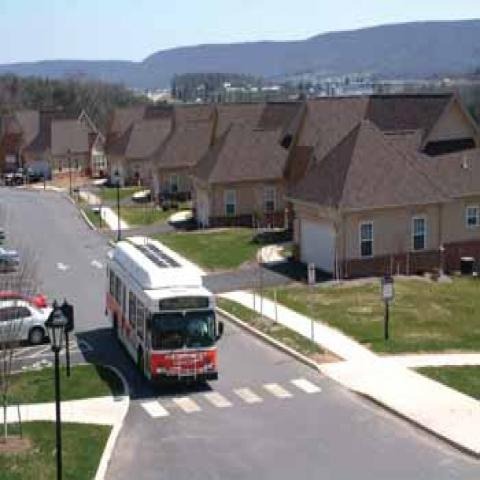bus: (104, 232, 227, 389)
car: (2, 299, 53, 347), (166, 207, 199, 232), (5, 167, 44, 185), (0, 248, 20, 273), (132, 190, 150, 201)
